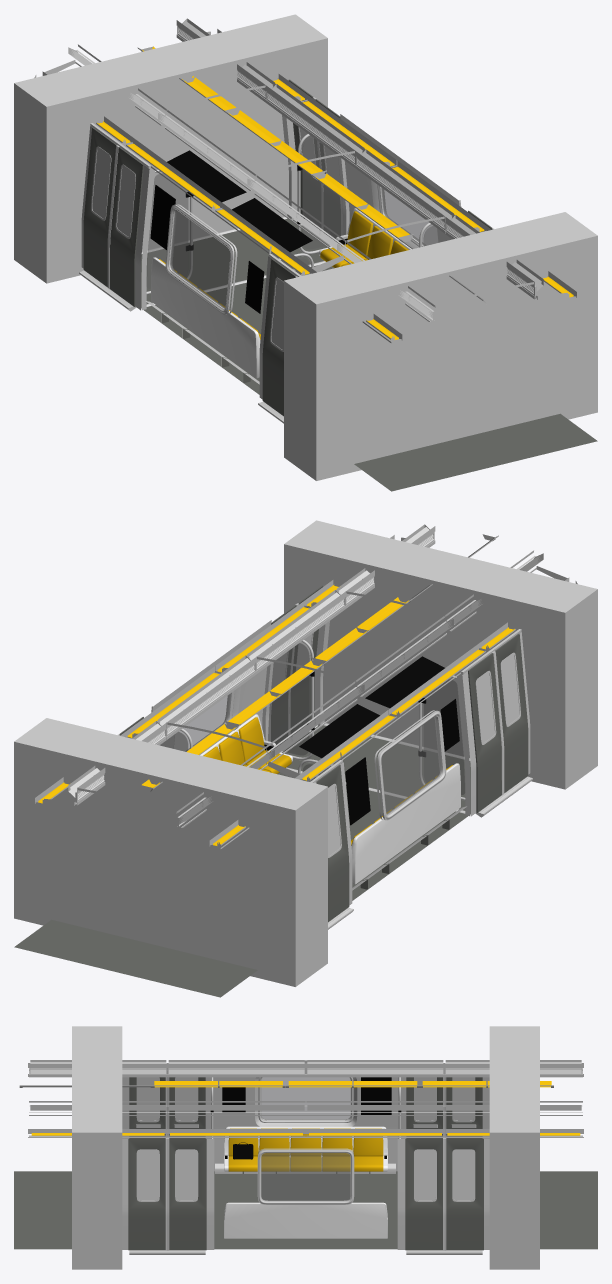
Rendered from newTrain.glb.
3 renders of one model, top to bottom at view 1: azimuth 30°, elevation 25°; view 2: azimuth 150°, elevation 25°; view 3: azimuth 270°, elevation 25°, orthographic. The views are drawn at different scales.
Visible parts, largest first — view 1: Cube.001, Cube.002, FloorInterior_LP.008, FloorInterior_LP.007, SideCentralPanelsWindows_LP.002, ChairBaseV2Wide_LP.002, Window3_LP.002, Door2_LP.007, Door_LP.007, DoorFrameSides2_LP.005, FrameWindow4_LP.002, Door2_LP.006 (+27 smaller); view 2: Cube.002, Cube.001, FloorInterior_LP.007, FloorInterior_LP.008, SideCentralPanelsWindows_LP.002, ChairBaseV2Wide_LP.002, Window3_LP.002, Door_LP.006, Door2_LP.006, DoorFrameSides2_LP.004, Door_LP.007, FrameWindow4_LP.002 (+27 smaller); view 3: Cube.001, Cube.002, FloorInterior_LP.007, FloorInterior_LP.008, Window3_LP.002, ChairBaseV2Wide_LP.002, Door2_LP.007, Door_LP.006, Door2_LP.006, Door_LP.007, PanelInterior_LP.008, DoorFrameSides2_LP.004 (+44 smaller).
Part boxes in pixels (x1,y1,x2,y2): Cube.001: (284, 212, 597, 480); Cube.002: (14, 14, 327, 283); FloorInterior_LP.008: (203, 350, 597, 491); FloorInterior_LP.007: (141, 218, 334, 353); SideCentralPanelsWindows_LP.002: (146, 137, 451, 288); ChairBaseV2Wide_LP.002: (151, 208, 411, 378); Window3_LP.002: (170, 188, 437, 308); Door2_LP.007: (83, 79, 321, 286); Door_LP.007: (110, 99, 340, 306); DoorFrameSides2_LP.005: (81, 115, 349, 310); FrameWindow4_LP.002: (165, 184, 438, 314); Door2_LP.006: (262, 210, 492, 416); Cube.002: (14, 718, 327, 986); Cube.001: (284, 520, 597, 789); FloorInterior_LP.007: (14, 856, 408, 997); FloorInterior_LP.008: (277, 725, 470, 859); SideCentralPanelsWindows_LP.002: (160, 643, 465, 794); ChairBaseV2Wide_LP.002: (200, 714, 460, 884); Window3_LP.002: (174, 694, 441, 814); Door_LP.006: (290, 585, 528, 792); Door2_LP.006: (271, 605, 501, 812); DoorFrameSides2_LP.004: (262, 621, 530, 816); Door_LP.007: (119, 717, 349, 922); FrameWindow4_LP.002: (173, 690, 446, 820); Cube.001: (72, 1026, 122, 1269); Cube.002: (489, 1026, 539, 1269); FloorInterior_LP.007: (306, 1171, 597, 1249); FloorInterior_LP.008: (14, 1171, 305, 1249); Window3_LP.002: (261, 1077, 350, 1200); ChairBaseV2Wide_LP.002: (224, 1126, 387, 1238); Door2_LP.007: (446, 1077, 483, 1250); Door_LP.006: (128, 1077, 165, 1250); Door2_LP.006: (169, 1077, 206, 1250); Door_LP.007: (405, 1077, 442, 1250); PanelInterior_LP.008: (214, 1060, 397, 1171); DoorFrameSides2_LP.004: (122, 1077, 214, 1249).
Size of the model in its own units: 5 by 3.07 by 11.61.
